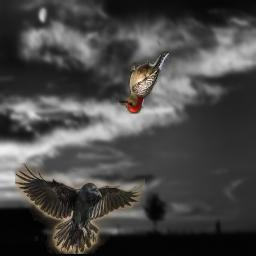Crow: (15, 163, 145, 254)
Woodpecker: (118, 51, 169, 114)
